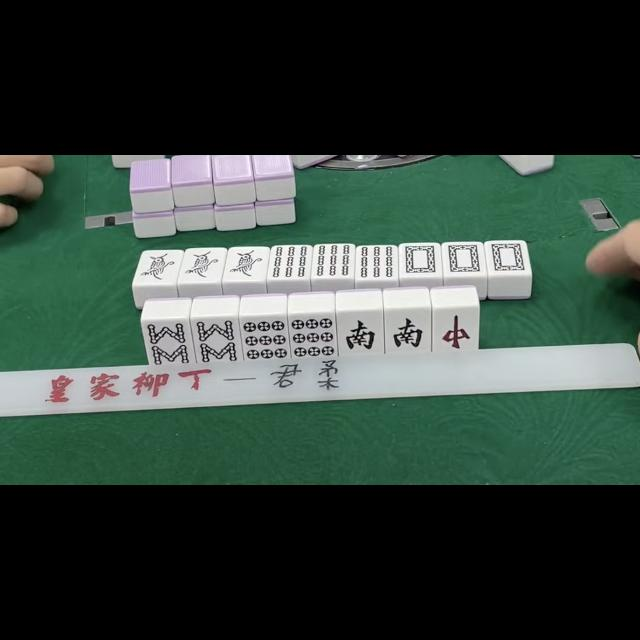b1: (182, 248, 224, 282), (138, 250, 178, 284), (225, 248, 267, 280)
b8: (144, 318, 192, 366), (193, 318, 240, 364)
b9: (312, 245, 353, 278), (360, 246, 398, 280), (270, 246, 310, 278)
d9: (243, 317, 289, 363), (290, 315, 338, 357)
dr: (433, 308, 479, 352)
dw: (443, 242, 485, 276), (486, 242, 530, 274), (400, 244, 440, 276)
ws: (336, 308, 382, 354), (386, 308, 430, 354)
